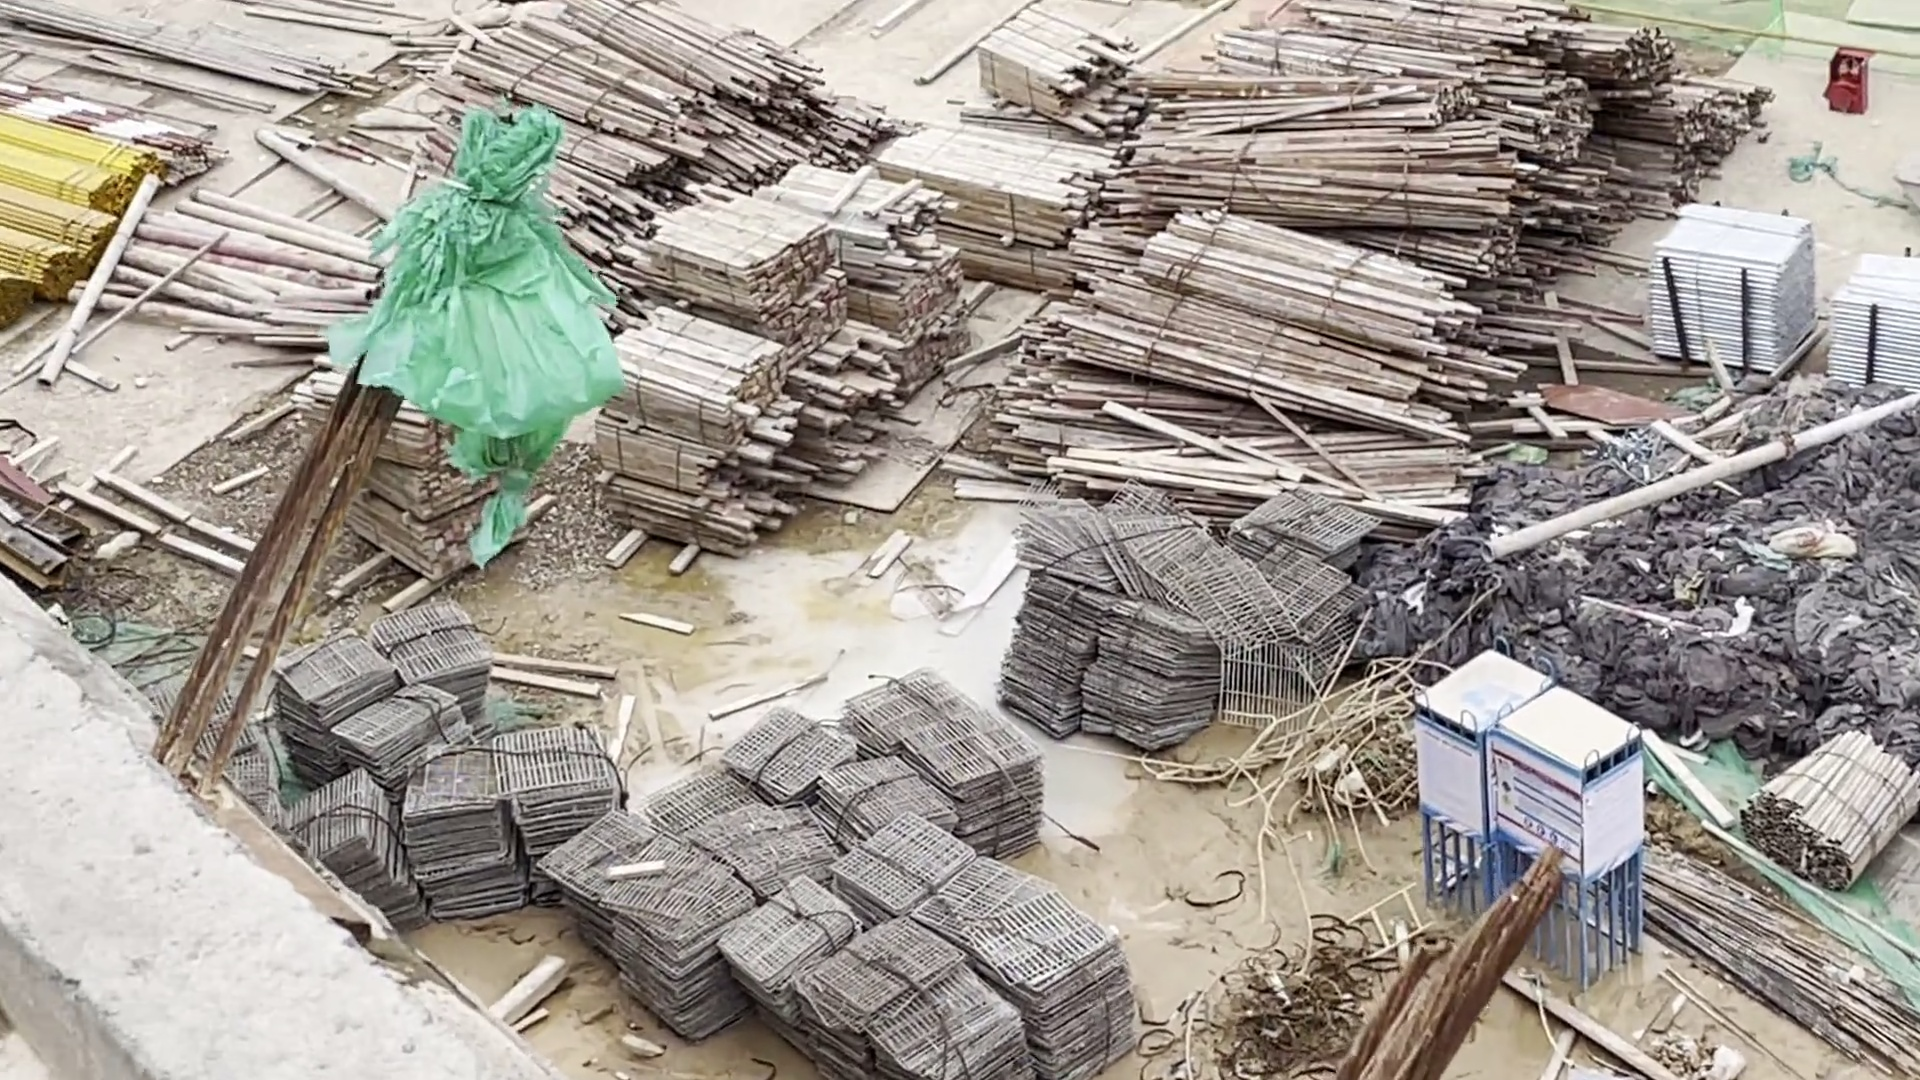scaffold: (1644, 198, 1821, 386), (1826, 232, 1920, 393)
wood: (1019, 208, 1489, 508), (1130, 4, 1675, 224), (433, 3, 881, 247), (599, 301, 822, 556), (301, 356, 543, 589), (886, 113, 1147, 293), (814, 169, 984, 409), (1741, 724, 1917, 890), (659, 186, 836, 331)
